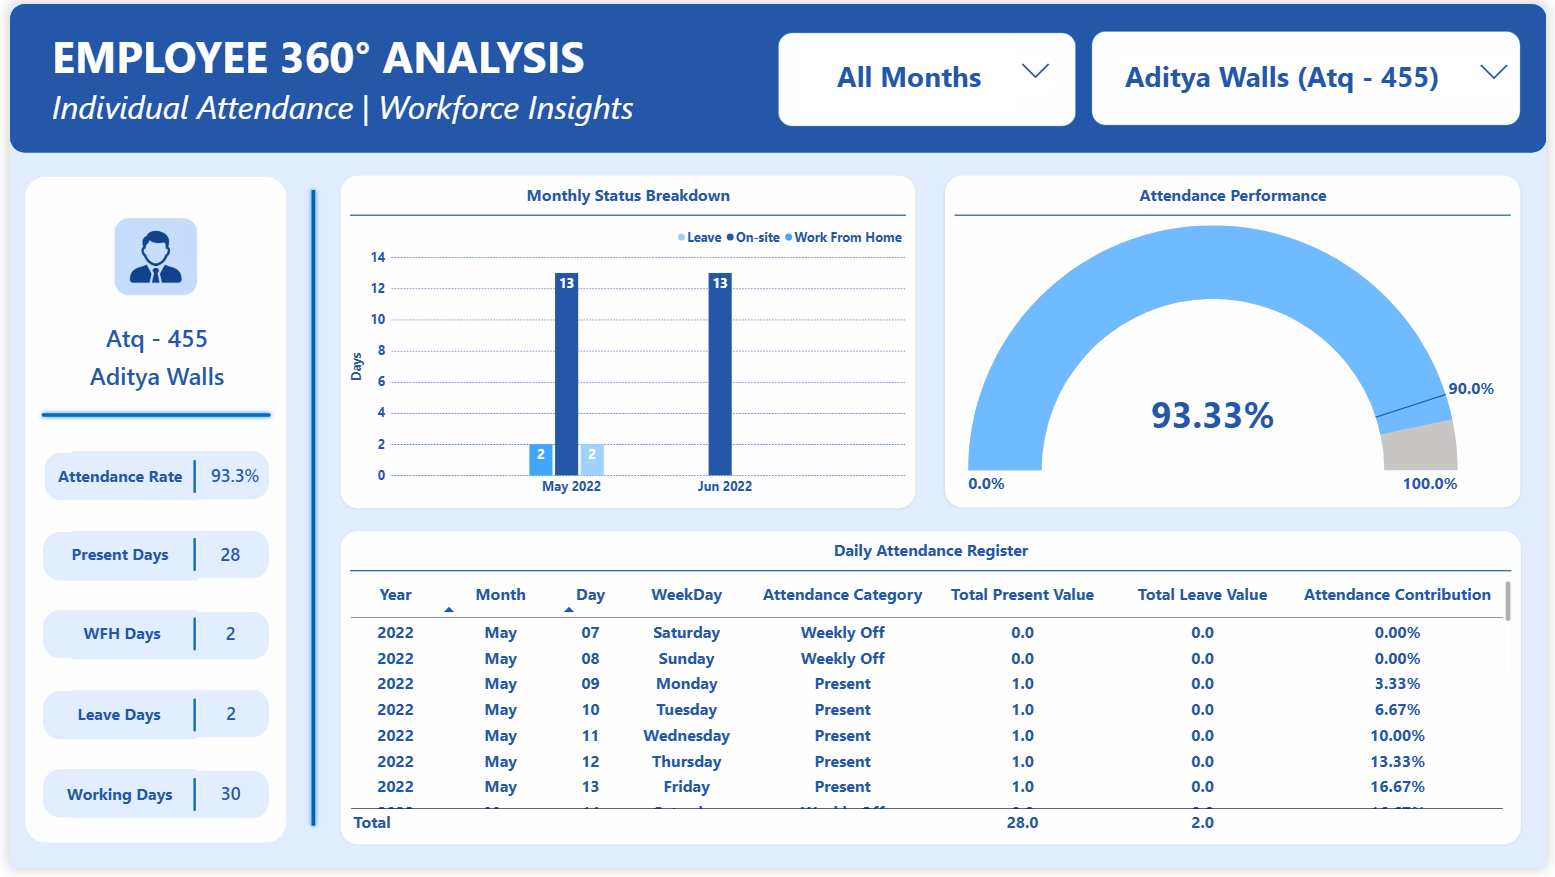

Layout of this report page (visuals, bound fields, positions):
{"tool":"powerbi","page":{"name":"Page 2","canvas":[2560,1440],"ordinal":1},"visuals":[{"type":"shape","box":[0,0,2560.9,247.8],"z":0},{"type":"textbox","box":[71.1,36.7,1002.2,208.9],"z":1000},{"type":"shape","box":[1802.5,45,715,157.5],"z":2000},{"type":"slicer","title":"Name","fields":{"Values":["FinalData.Employee Selection"]},"box":[1838.5,76.9,680,315],"z":3000},{"type":"shape","box":[23.1,284.6,441,1115.4],"z":4000},{"type":"image","box":[122.5,327.5,242.5,185],"z":5000},{"type":"cardVisual","fields":{"Data":["Measure Table.Selected Employee Name"]},"box":[25,532.5,440,170],"z":6000},{"type":"cardVisual","fields":{"Data":["Min(FinalData.Formatted Employee Code)"]},"box":[25,445,440,220],"z":7000},{"type":"shape","box":[45,544,397.5,280],"z":8000},{"type":"shape","box":[103.3,746,329.3,80.7],"z":9000},{"type":"cardVisual","fields":{"Data":["Measure Table.Attendance Rate"]},"box":[26.7,745.6,405.6,80],"z":10000},{"type":"shape","box":[103.3,878.7,329.3,80],"z":11000},{"type":"cardVisual","fields":{"Data":["Measure Table.Present Days"]},"box":[26.7,877.8,373.3,81.1],"z":12000},{"type":"shape","box":[103.3,1011.3,329.3,80],"z":13000},{"type":"cardVisual","fields":{"Data":["Measure Table.WFH Days"]},"box":[24.5,1010,368.2,80.9],"z":14000},{"type":"shape","box":[103.3,1143.3,329.3,80],"z":15000},{"type":"cardVisual","fields":{"Data":["Measure Table.Leave Days"]},"box":[27,1143,366,81],"z":16000},{"type":"shape","box":[103.3,1277.3,329.3,80],"z":17000},{"type":"cardVisual","fields":{"Data":["Measure Table.Working Days"]},"box":[24,1276,376,81],"z":18000},{"type":"shape","box":[55,1144,256,81],"z":19000},{"type":"shape","box":[55.5,1010.9,258.2,80.9],"z":20000},{"type":"shape","box":[55.6,878.9,257.8,81.1],"z":21000},{"type":"shape","box":[55,1276,256,81],"z":22000},{"type":"shape","box":[56.9,747.7,256.7,80],"z":23000},{"type":"textbox","box":[80,767.5,432.5,55],"z":24000},{"type":"textbox","box":[102.7,892.7,416.4,59.1],"z":25000},{"type":"textbox","box":[122,1026,235,67.5],"z":26000},{"type":"textbox","box":[113,1164,173,58],"z":27000},{"type":"textbox","box":[96,1297,235,47],"z":29000},{"type":"shape","box":[1280,46.7,496.7,156.7],"z":30000},{"type":"shape","box":[144.5,760.5,325.5,55],"z":30001},{"type":"shape","box":[144.7,890.6,325.5,55],"z":30002},{"type":"shape","box":[145.3,1022.9,325.5,55],"z":30003},{"type":"shape","box":[145.3,1157.1,325.5,55],"z":30004},{"type":"shape","box":[145.3,1289.4,325.5,55],"z":30005},{"type":"slicer","fields":{"Values":["Calendar.Month Year"]},"box":[1321.2,75.8,433.3,345.5],"z":30006},{"type":"cardVisual","fields":{"Data":["Measure Table.Month Display"]},"box":[1320,51.4,357.1,150],"z":30007},{"type":"shape","box":[430.8,302.6,151.3,1074.4],"z":30008},{"type":"clusteredColumnChart","title":"Monthly Status Breakdown","fields":{"Category":["Calendar.Month Year"],"Series":["FinalData.Status Group"],"Y":["Measure Table.Days"]},"box":[550,285.3,960,555.9],"z":30009},{"type":"gauge","title":"Attendance Performance","fields":{"Y":["Measure Table.Attendance Rate"]},"box":[1557.6,284.8,960.6,554.5],"z":30010},{"type":"tableEx","title":"Daily Attendance Register","fields":{"Values":["Calendar.Year","Calendar.Month","Calendar.Day","FinalData.Day","FinalData.Attendance Category","Measure Table.Total Present Value","Measure Table.Total Leave Value","FinalData.Cumulative Attendance Contribution"]},"box":[550,876.3,1968.4,523.7],"z":30011}]}

Visuals, with their boxes in screenshot pixels (x1, y1, x2, y2), scaled from the page's 2560x1440 canvas onto the 1555x877 screenshot:
shape: 0 0 1554 151
textbox: 43 22 652 150
shape: 1095 27 1529 123
"Name" slicer: 1117 47 1530 239
shape: 14 173 282 853
image: 74 199 222 312
cardVisual - Measure Table.Selected Employee Name: 15 324 282 428
cardVisual - Min(FinalData.Formatted Employee Code): 15 271 282 405
shape: 27 331 269 502
shape: 63 454 263 503
cardVisual - Measure Table.Attendance Rate: 16 454 263 503
shape: 63 535 263 584
cardVisual - Measure Table.Present Days: 16 535 243 584
shape: 63 616 263 665
cardVisual - Measure Table.WFH Days: 15 615 239 664
shape: 63 696 263 745
cardVisual - Measure Table.Leave Days: 16 696 239 745
shape: 63 778 263 827
cardVisual - Measure Table.Working Days: 15 777 243 826
shape: 33 697 189 746
shape: 34 616 191 665
shape: 34 535 190 585
shape: 33 777 189 826
shape: 35 455 190 504
textbox: 49 467 311 501
textbox: 62 544 315 580
textbox: 74 625 217 666
textbox: 69 709 174 744
textbox: 58 790 201 819
shape: 778 28 1079 124
shape: 88 463 285 497
shape: 88 542 286 576
shape: 88 623 286 656
shape: 88 705 286 738
shape: 88 785 286 819
slicer - Calendar.Month Year: 803 46 1066 257
cardVisual - Measure Table.Month Display: 802 31 1019 123
shape: 262 184 354 839
"Monthly Status Breakdown" clusteredColumnChart: 334 174 917 512
"Attendance Performance" gauge: 946 173 1530 511
"Daily Attendance Register" tableEx: 334 534 1530 853
